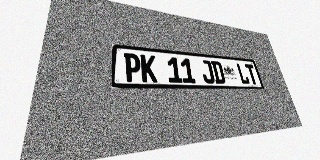1: (166, 57, 183, 83), (179, 58, 196, 83)
D: (211, 61, 226, 84)
J: (200, 60, 215, 84)
K: (140, 54, 157, 82)
L: (236, 63, 250, 84)
P: (124, 53, 141, 82)
T: (244, 64, 259, 84)
